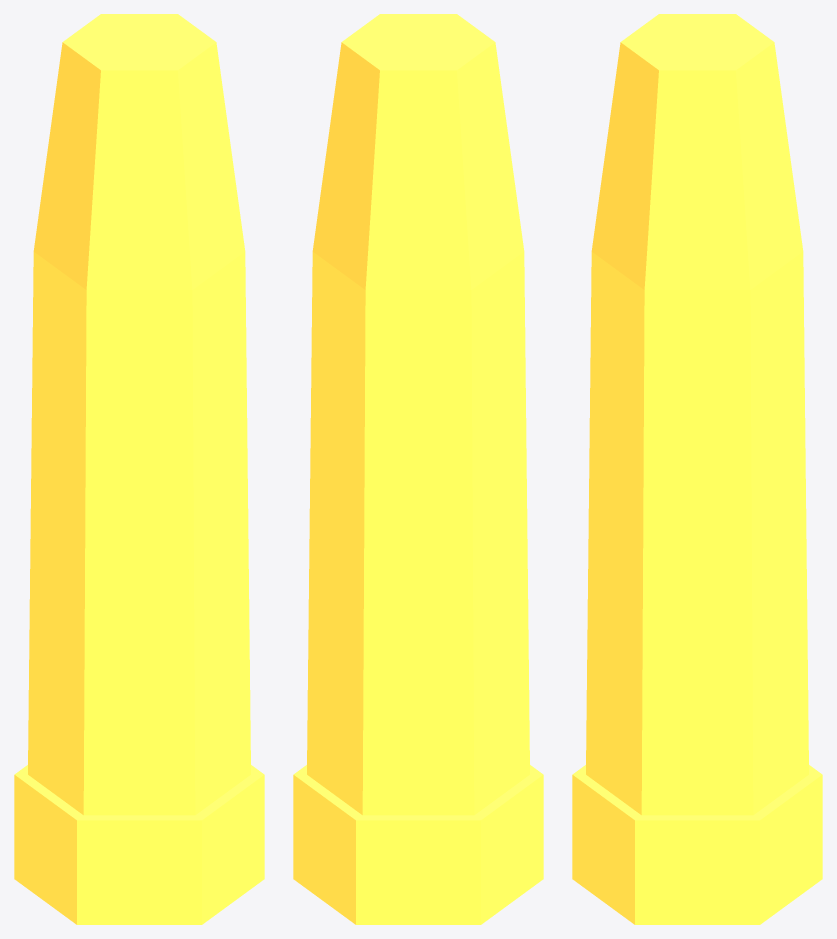
File: vfx_shell_rifle.glb
The picture shows the model from 3 angles, left to right: view 1: azimuth 30°, elevation 25°; view 2: azimuth 150°, elevation 25°; view 3: azimuth 270°, elevation 25°; orthographic projection.
Visible parts, largest first — view 1: VFX_Shell_Rifle; view 2: VFX_Shell_Rifle; view 3: VFX_Shell_Rifle.
Part boxes in pixels (x1=…): VFX_Shell_Rifle: x1=14, y1=14, x2=264, y2=924; VFX_Shell_Rifle: x1=293, y1=14, x2=543, y2=924; VFX_Shell_Rifle: x1=572, y1=14, x2=822, y2=924.
Size of the model in its own units: 0.0113 by 0.048 by 0.013.
